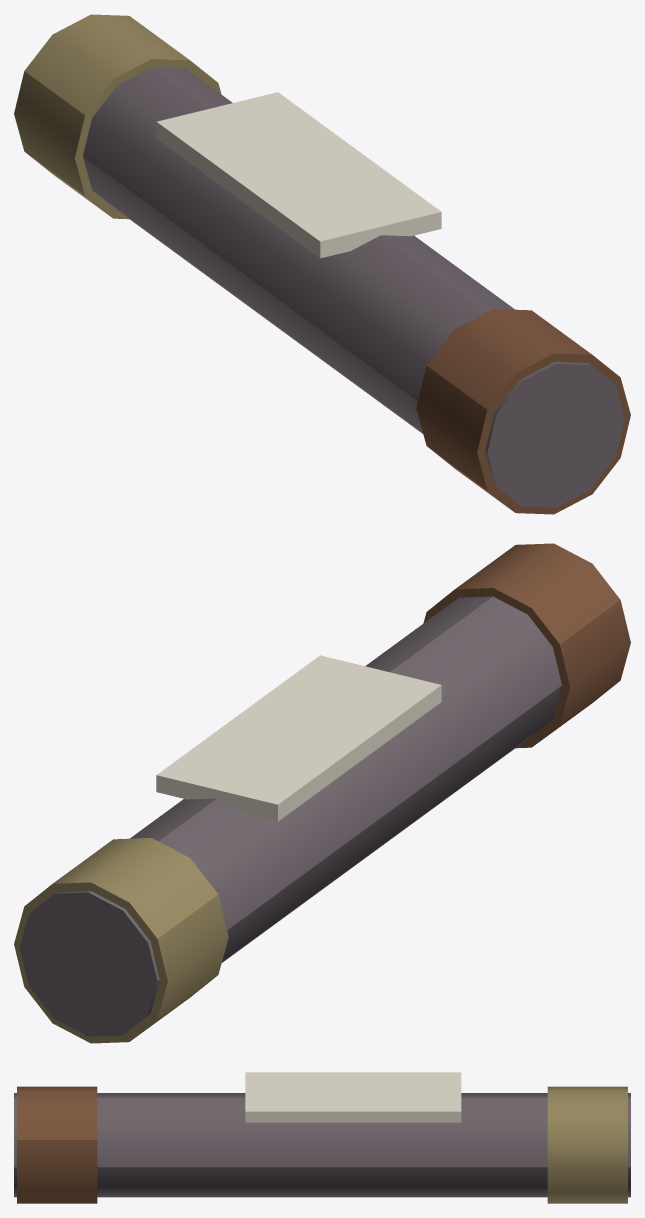
The model's file is Flare_Unlit.fbx.
The picture shows the model from 3 angles, top to bottom: view 1: azimuth 30°, elevation 25°; view 2: azimuth 150°, elevation 25°; view 3: azimuth 270°, elevation 25°; orthographic projection. The views are drawn at different scales.
Visible parts, largest first — view 1: Flare_Unlit; view 2: Flare_Unlit; view 3: Flare_Unlit.
Boxes of the visible parts, x1,y1,x2,y2 form: Flare_Unlit: (14, 14, 630, 514); Flare_Unlit: (14, 543, 630, 1043); Flare_Unlit: (14, 1072, 630, 1203).
Bounding box in the file's own units: 3.8 × 3.8 × 20.
